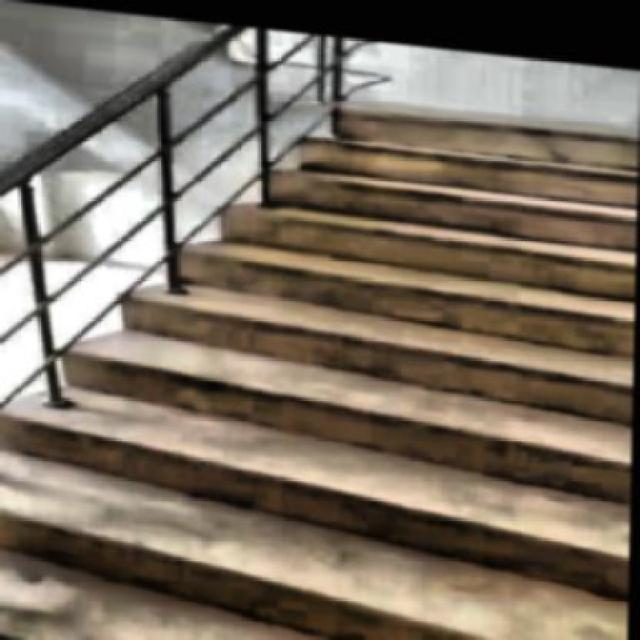stair: (0, 61, 638, 638)
